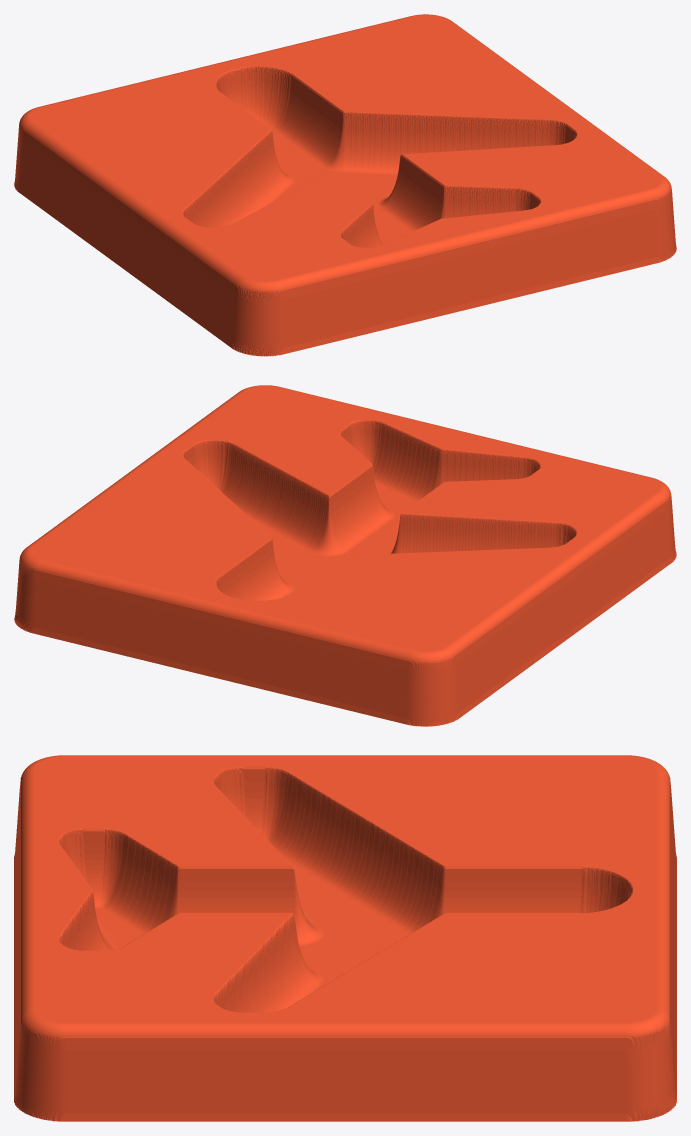
The model's file is mold.glb.
3 renders of one model, top to bottom at view 1: azimuth 30°, elevation 25°; view 2: azimuth 150°, elevation 25°; view 3: azimuth 270°, elevation 25°, orthographic. The views are drawn at different scales.
Visible parts, largest first — view 1: geometry_0; view 2: geometry_0; view 3: geometry_0.
Boxes of the visible parts, box(x1,y1,x2,y2) form: geometry_0: box(14, 14, 676, 356); geometry_0: box(14, 385, 676, 726); geometry_0: box(14, 755, 676, 1121).
Size of the model in its own units: 0.1178 by 0.0175 by 0.1164.
